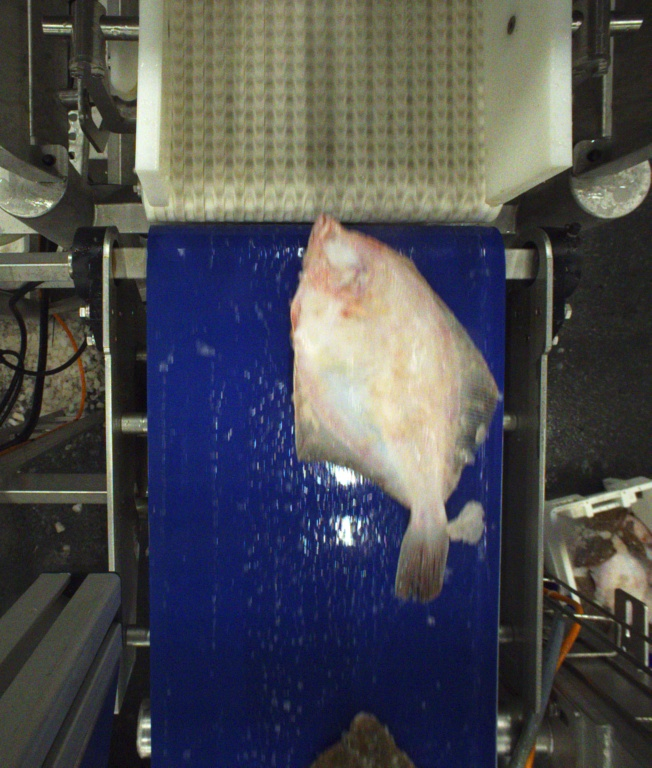PLE: (287, 214, 497, 603)
